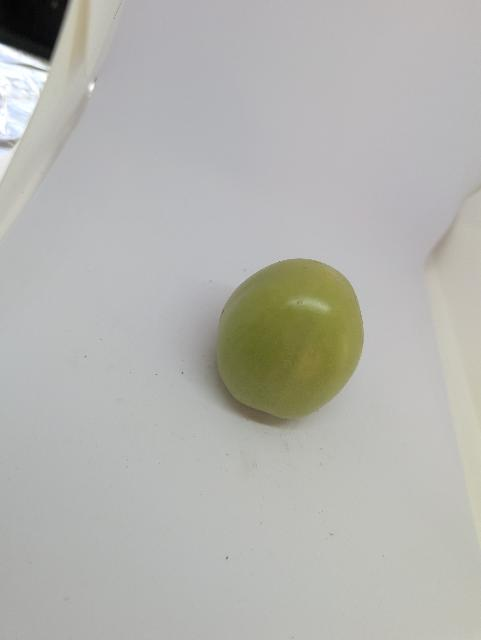green: (199, 242, 371, 427)
